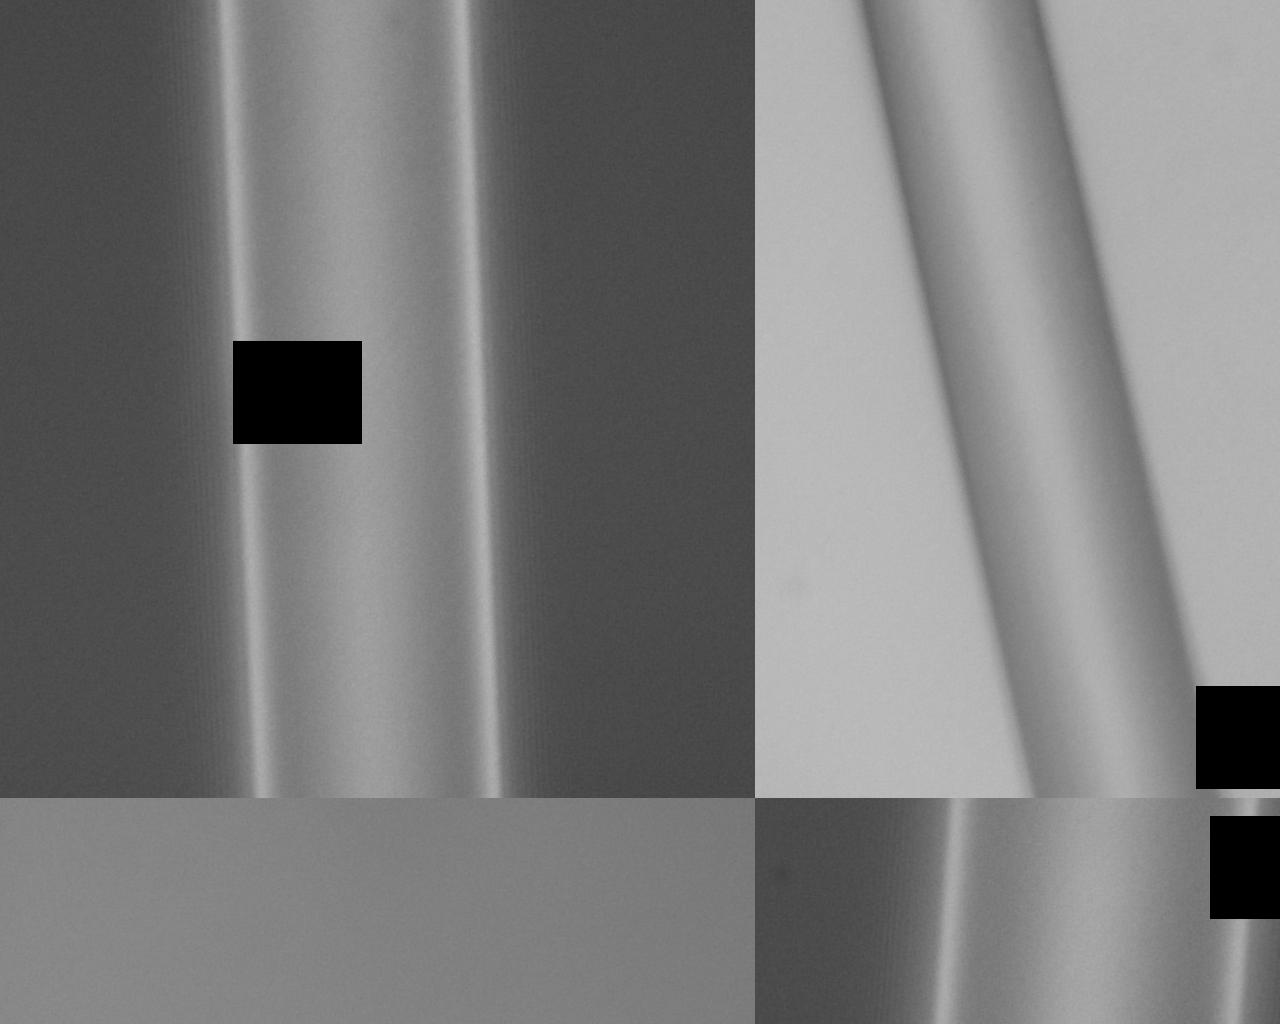fiber: (844, 506, 1280, 951), (103, 670, 844, 860), (844, 101, 1280, 158)
